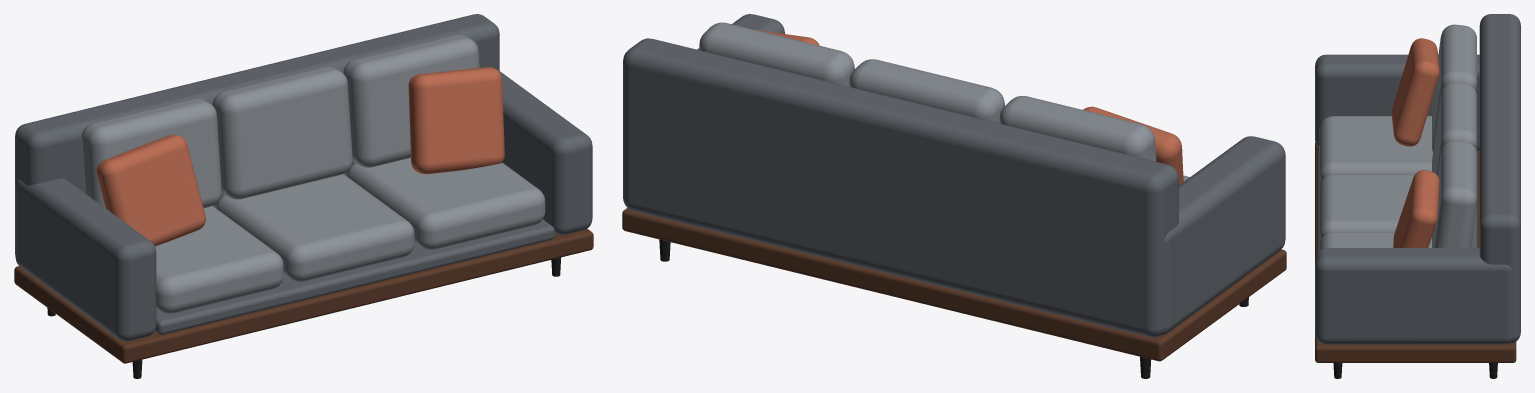
Rendered from aria-sofa.glb.
3 renders of one model, left to right at view 1: azimuth 30°, elevation 25°; view 2: azimuth 150°, elevation 25°; view 3: azimuth 270°, elevation 25°, orthographic. The views are drawn at different scales.
Visible parts, largest first — view 1: Arm_left, Back_cushion_2, Seat_cushion_2, Back_panel, Base_rail, Seat_cushion_3, Scatter_cushion_2, Arm_right, Back_cushion_3, Seat_cushion_1, Scatter_cushion_1, Seat_deck (+1 smaller); view 2: Back_panel, Arm_left, Base_rail, Back_cushion_1, Back_cushion_2, Back_cushion_3, Scatter_cushion_1, Arm_right; view 3: Arm_right, Back_panel, Arm_left, Seat_cushion_1, Seat_cushion_2, Base_rail, Back_cushion_3, Scatter_cushion_1, Scatter_cushion_2, Back_cushion_1, Back_cushion_2, Seat_cushion_3 (+1 smaller).
Part boxes in pixels (x1=…): Arm_left: x1=15, y1=178, x2=156, y2=341; Back_cushion_2: x1=212, y1=66, x2=352, y2=199; Seat_cushion_2: x1=216, y1=174, x2=414, y2=282; Back_panel: x1=15, y1=14, x2=499, y2=254; Base_rail: x1=14, y1=228, x2=593, y2=363; Seat_cushion_3: x1=347, y1=158, x2=545, y2=250; Scatter_cushion_2: x1=408, y1=67, x2=504, y2=174; Arm_right: x1=499, y1=71, x2=592, y2=234; Back_cushion_3: x1=343, y1=34, x2=479, y2=167; Seat_cushion_1: x1=155, y1=206, x2=283, y2=314; Scatter_cushion_1: x1=96, y1=134, x2=205, y2=246; Seat_deck: x1=155, y1=219, x2=554, y2=334; Back_panel: x1=623, y1=38, x2=1178, y2=337; Arm_left: x1=1160, y1=136, x2=1285, y2=335; Base_rail: x1=622, y1=208, x2=1286, y2=361; Back_cushion_1: x1=999, y1=96, x2=1156, y2=161; Back_cushion_2: x1=849, y1=59, x2=1004, y2=123; Back_cushion_3: x1=699, y1=22, x2=854, y2=86; Scatter_cushion_1: x1=1083, y1=106, x2=1183, y2=184; Arm_right: x1=697, y1=14, x2=784, y2=50; Arm_right: x1=1315, y1=248, x2=1512, y2=344; Back_panel: x1=1479, y1=14, x2=1520, y2=343; Arm_left: x1=1315, y1=54, x2=1479, y2=151; Seat_cushion_1: x1=1319, y1=116, x2=1432, y2=184; Seat_cushion_2: x1=1319, y1=174, x2=1414, y2=242; Base_rail: x1=1315, y1=142, x2=1516, y2=362; Back_cushion_3: x1=1432, y1=140, x2=1476, y2=247; Scatter_cushion_1: x1=1391, y1=38, x2=1439, y2=146; Scatter_cushion_2: x1=1393, y1=170, x2=1439, y2=247; Back_cushion_1: x1=1432, y1=24, x2=1476, y2=152; Back_cushion_2: x1=1432, y1=82, x2=1476, y2=175; Seat_cushion_3: x1=1319, y1=232, x2=1431, y2=249.
Bounding box in the file's own units: 2.18 × 0.8608 × 0.9.
